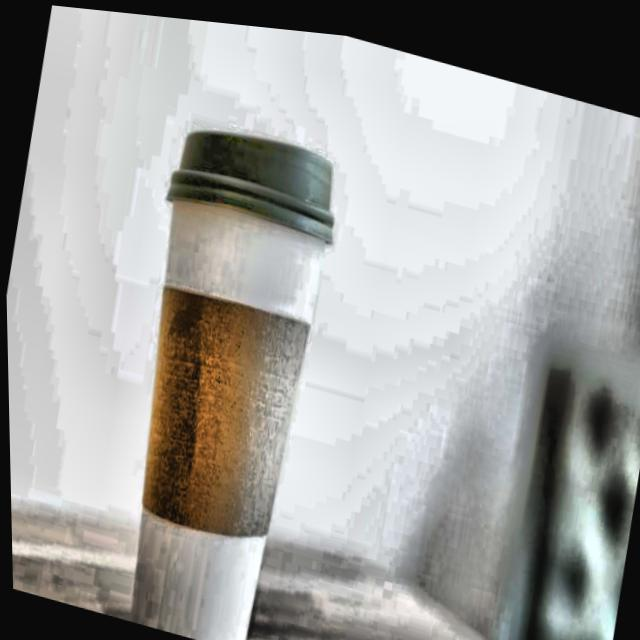Cup: (85, 158, 346, 640)
